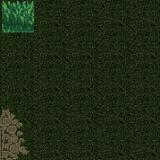Slow: (2, 1, 35, 32)
